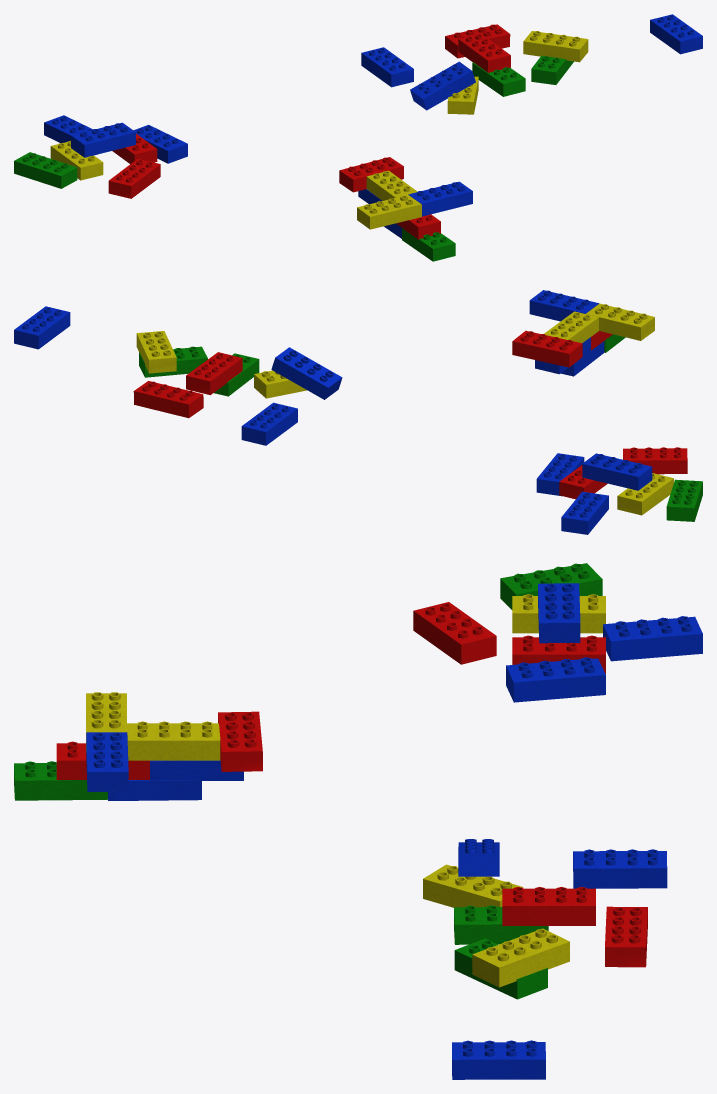
File: Prop_DuploPiles_model.fbx
3 views of the same model, one above another, from view 1: azimuth 30°, elevation 25°; view 2: azimuth 150°, elevation 25°; view 3: azimuth 270°, elevation 25° (orthographic). The views are drawn at different scales.
Parts seen in each view (by area): view 1: Prop_DuploPile1, Prop_DuploPile2, Prop_DuploPile3; view 2: Prop_DuploPile1, Prop_DuploPile2, Prop_DuploPile3; view 3: Prop_DuploPile1, Prop_DuploPile2, Prop_DuploPile3.
Part boxes in pixels (x1,y1,x2,y2): Prop_DuploPile1: (361,14,702,114); Prop_DuploPile2: (14,115,187,198); Prop_DuploPile3: (339,157,472,261); Prop_DuploPile1: (14,306,342,445); Prop_DuploPile2: (536,447,702,534); Prop_DuploPile3: (512,290,654,376); Prop_DuploPile1: (423,839,667,1079); Prop_DuploPile2: (413,563,702,702); Prop_DuploPile3: (14,692,262,800).
Size of the model in its own units: 109 by 7.12 by 64.35.
